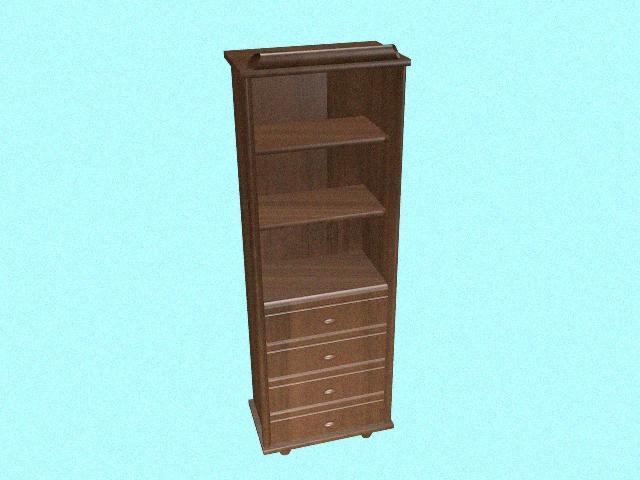cabinet_door: (264, 306, 390, 334), (266, 342, 388, 368), (268, 377, 386, 402), (270, 410, 385, 433)
handle: (315, 314, 342, 329), (317, 384, 341, 400), (316, 416, 341, 431), (315, 351, 339, 364)
